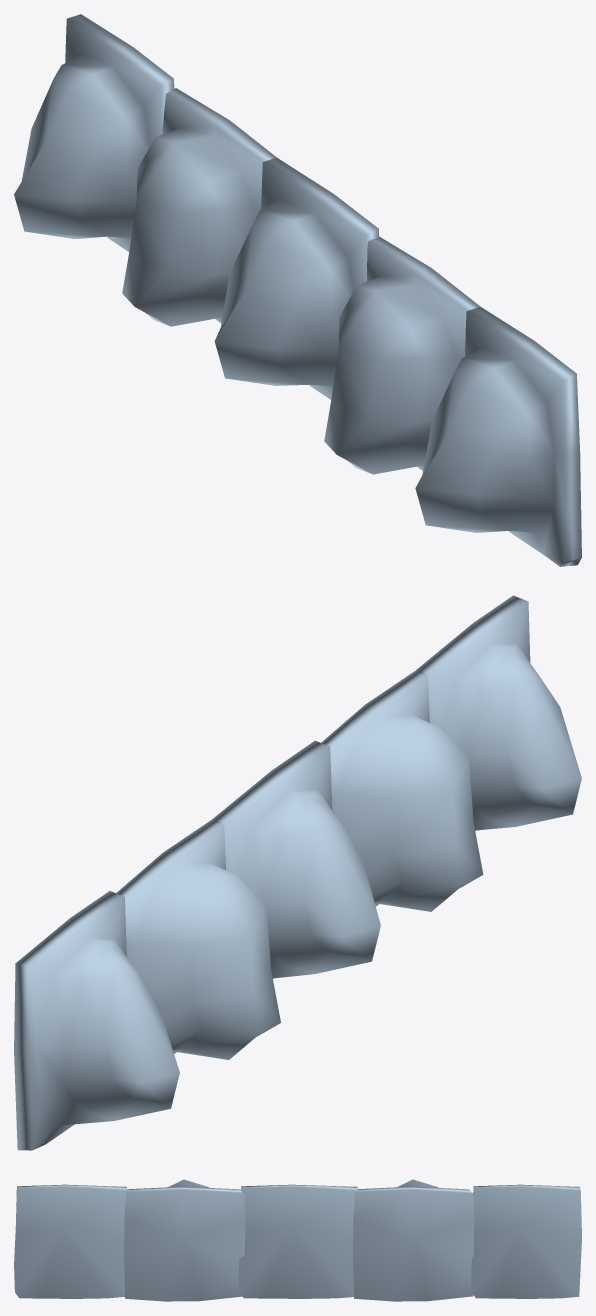
File: Statues_Lign_01B_Lod1.fbx
3 renders of one model, top to bottom at view 1: azimuth 30°, elevation 25°; view 2: azimuth 150°, elevation 25°; view 3: azimuth 270°, elevation 25°, orthographic. The views are drawn at different scales.
Parts seen in each view (by area): view 1: Statues_Lign_01B_Lod1; view 2: Statues_Lign_01B_Lod1; view 3: Statues_Lign_01B_Lod1.
Part boxes in pixels (box(x1,y1,x2,y2)): Statues_Lign_01B_Lod1: box(14, 14, 581, 566); Statues_Lign_01B_Lod1: box(14, 595, 581, 1150); Statues_Lign_01B_Lod1: box(14, 1179, 581, 1301).
Size of the model in its own units: 41.07 by 66.44 by 301.
